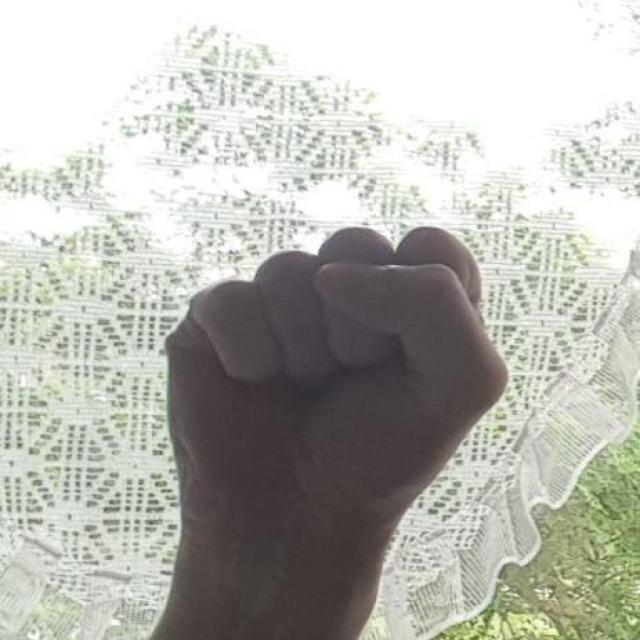hand: (134, 222, 509, 638)
